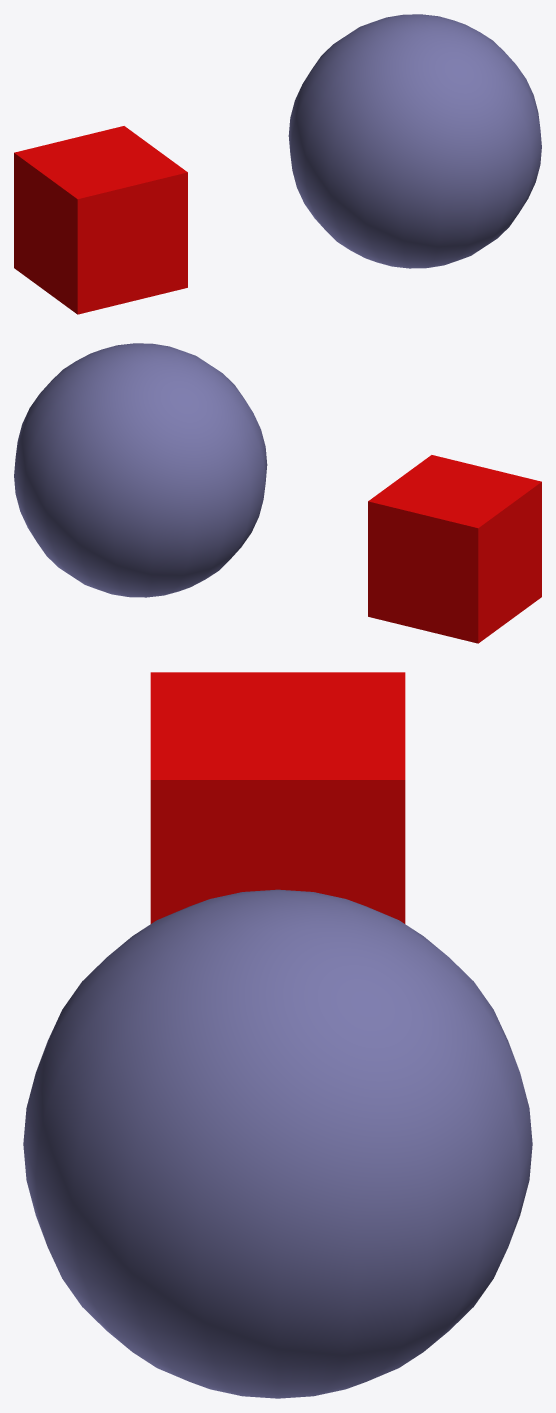
The model's file is cubeSphere.fbx.
The picture shows the model from 3 angles, top to bottom: view 1: azimuth 30°, elevation 25°; view 2: azimuth 150°, elevation 25°; view 3: azimuth 270°, elevation 25°; orthographic projection. The views are drawn at different scales.
Visible parts, largest first — view 1: pSphere1, pCube1; view 2: pSphere1, pCube1; view 3: pSphere1, pCube1.
Boxes of the visible parts, box(x1,y1,x2,y2) form: pSphere1: box(288, 14, 541, 268); pCube1: box(14, 126, 187, 314); pSphere1: box(14, 343, 267, 597); pCube1: box(368, 455, 541, 643); pSphere1: box(23, 889, 532, 1398); pCube1: box(150, 672, 405, 923).
Bounding box in the file's own units: 4.46 × 2.05 × 2.05.
